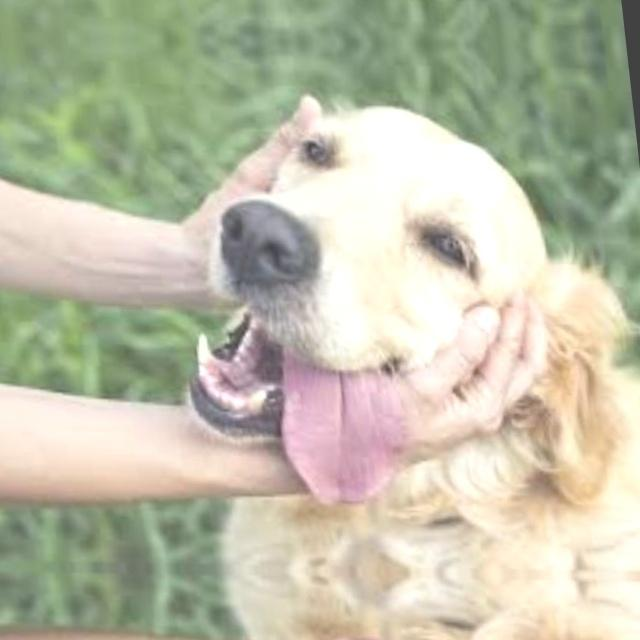dog: (162, 69, 630, 576), (217, 569, 640, 640), (148, 0, 568, 16)
